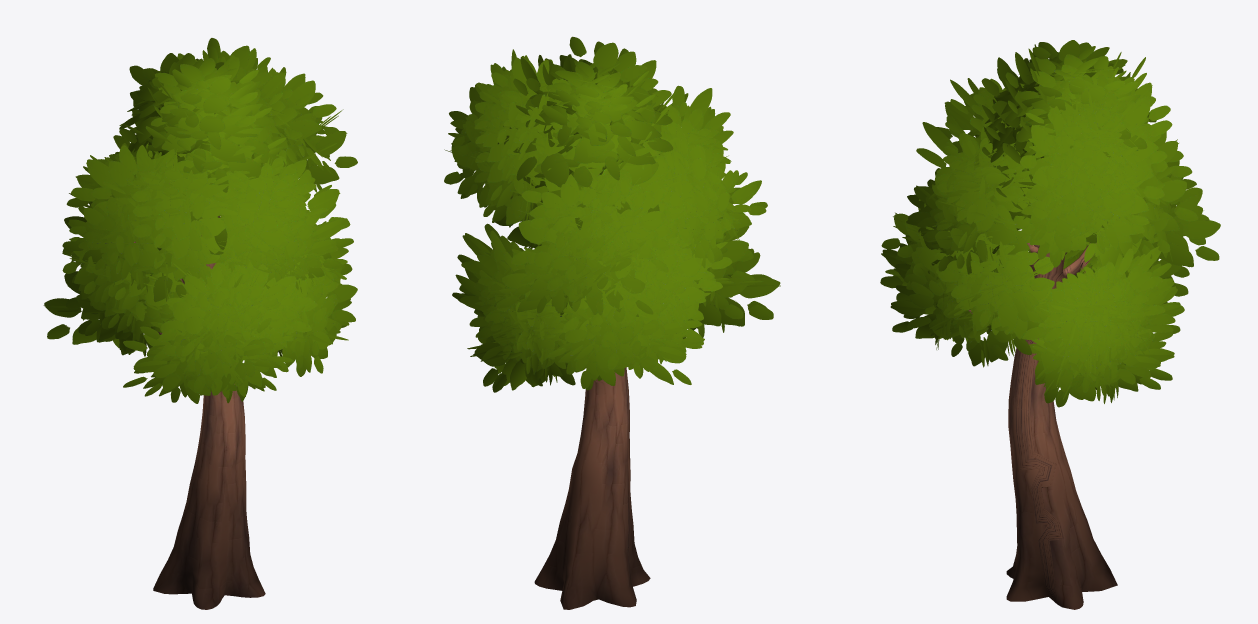
File: CommonTree_1.glb
The picture shows the model from 3 angles, left to right: view 1: azimuth 30°, elevation 25°; view 2: azimuth 150°, elevation 25°; view 3: azimuth 270°, elevation 25°; orthographic projection. The views are drawn at different scales.
Visible parts, largest first — view 1: CommonTree_1; view 2: CommonTree_1; view 3: CommonTree_1.
Boxes of the visible parts, bbox=[...] form: CommonTree_1: bbox=[43, 38, 357, 609]; CommonTree_1: bbox=[444, 36, 780, 609]; CommonTree_1: bbox=[880, 40, 1220, 609].
Size of the model in its own units: 4.68 by 7.43 by 4.83.
2 materials, 2 textured.
